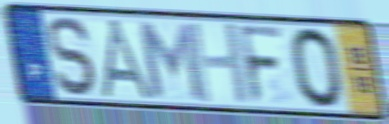A: (99, 17, 159, 103)
F: (236, 22, 287, 107)
H: (185, 20, 253, 106)
M: (133, 18, 207, 104)
O: (287, 25, 347, 112)
S: (46, 14, 101, 99)
